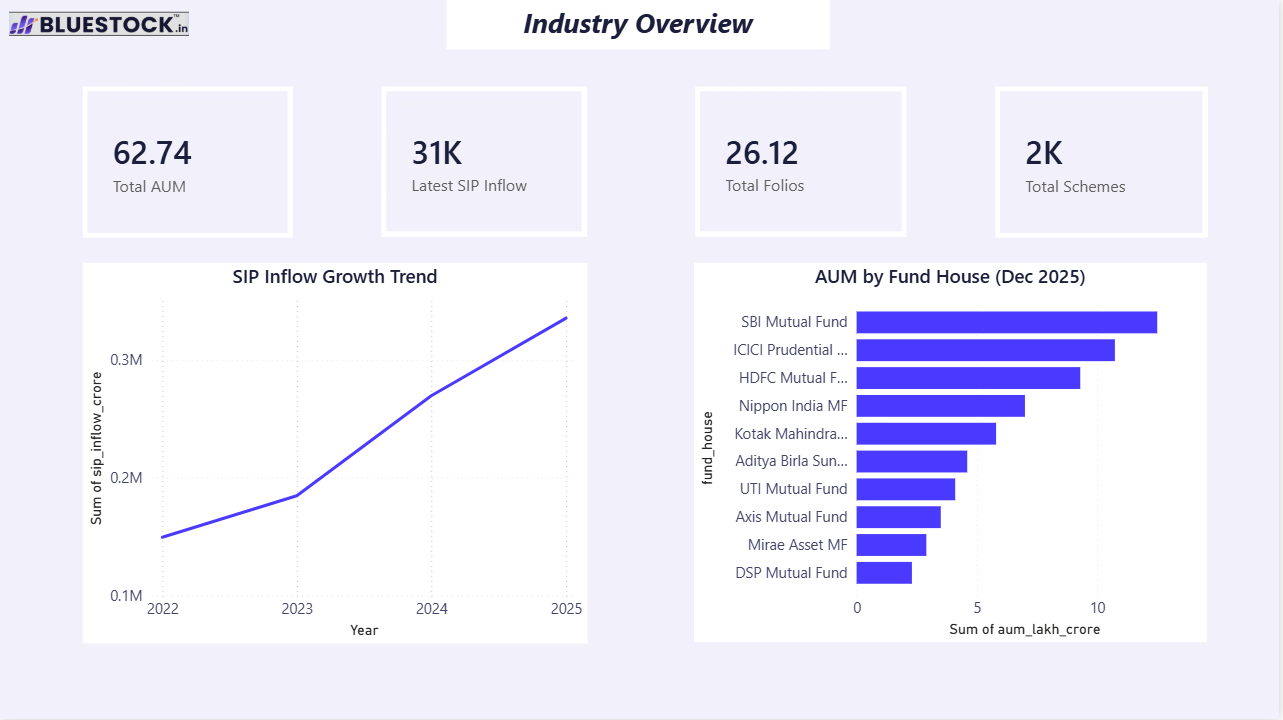

Layout of this report page (visuals, bound fields, positions):
{"tool":"powerbi","page":{"name":"Page 1","canvas":[1280,720],"ordinal":0},"visuals":[{"type":"image","box":[10,0,180,50],"z":0},{"type":"textbox","box":[447.1,0,382.9,50],"z":1000},{"type":"cardVisual","fields":{"Data":["fact_aum.Total AUM"]},"box":[84.3,87.1,210,151.4],"z":1001},{"type":"cardVisual","fields":{"Data":["fact_aum.Latest SIP Inflow"]},"box":[382.9,87.1,205.7,150],"z":1002},{"type":"cardVisual","fields":{"Data":["fact_aum.Total Folios"]},"box":[695.7,87.1,211.4,150],"z":1003},{"type":"cardVisual","fields":{"Data":["fact_aum.Total Schemes"]},"box":[995.7,87.1,212.9,151.4],"z":1004},{"type":"lineChart","title":"SIP Inflow Growth Trend","fields":{"Category":["fact_sip.month.Variation.Date Hierarchy.Year","fact_sip.month.Variation.Date Hierarchy.Quarter","fact_sip.month.Variation.Date Hierarchy.Month","fact_sip.month.Variation.Date Hierarchy.Day"],"Y":["Sum(fact_sip.sip_inflow_crore)"]},"box":[84.1,263.6,504.5,380.7],"z":1005},{"type":"clusteredBarChart","title":"AUM by Fund House (Dec 2025)","fields":{"Y":["Sum(fact_aum.aum_lakh_crore)"],"Category":["fact_aum.fund_house"]},"box":[695.5,263.6,512.5,379.5],"z":1006}]}

Visuals, with their boxes in screenshot pixels (x1, y1, x2, y2), scaled from the page's 1280x720 canvas onto the 1283x720 screenshot:
image: (x1=10, y1=0, x2=190, y2=50)
textbox: (x1=448, y1=0, x2=832, y2=50)
cardVisual - fact_aum.Total AUM: (x1=84, y1=87, x2=295, y2=238)
cardVisual - fact_aum.Latest SIP Inflow: (x1=384, y1=87, x2=590, y2=237)
cardVisual - fact_aum.Total Folios: (x1=697, y1=87, x2=909, y2=237)
cardVisual - fact_aum.Total Schemes: (x1=998, y1=87, x2=1211, y2=238)
"SIP Inflow Growth Trend" lineChart: (x1=84, y1=264, x2=590, y2=644)
"AUM by Fund House (Dec 2025)" clusteredBarChart: (x1=697, y1=264, x2=1211, y2=643)
